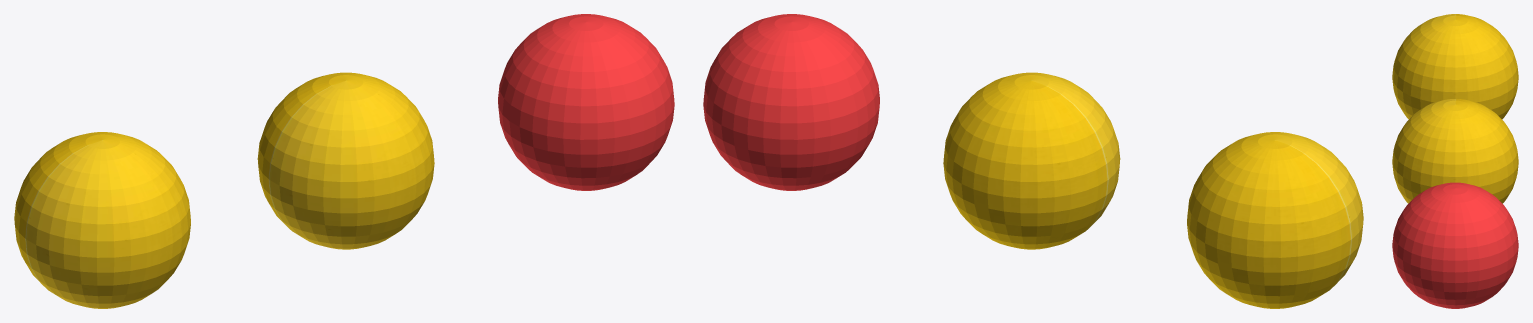
File: sfere1R.obj
3 renders of one model, left to right at view 1: azimuth 30°, elevation 25°; view 2: azimuth 150°, elevation 25°; view 3: azimuth 270°, elevation 25°, orthographic. The views are drawn at different scales.
Parts seen in each view (by area): view 1: Sfera.001, Sfera, Sfera.002; view 2: Sfera.001, Sfera, Sfera.002; view 3: Sfera, Sfera.002, Sfera.001.
Part boxes in pixels (<box>): Sfera.001: <box>257,72,434,249</box>; Sfera: <box>498,14,674,190</box>; Sfera.002: <box>14,132,190,308</box>; Sfera.001: <box>943,72,1120,249</box>; Sfera: <box>703,14,879,190</box>; Sfera.002: <box>1187,132,1363,308</box>; Sfera: <box>1392,182,1518,308</box>; Sfera.002: <box>1392,14,1518,119</box>; Sfera.001: <box>1392,99,1518,203</box>.
Bounding box in the file's own units: 2.07 × 0.5 × 0.5.
Materials: 3 (3 with a texture image).
